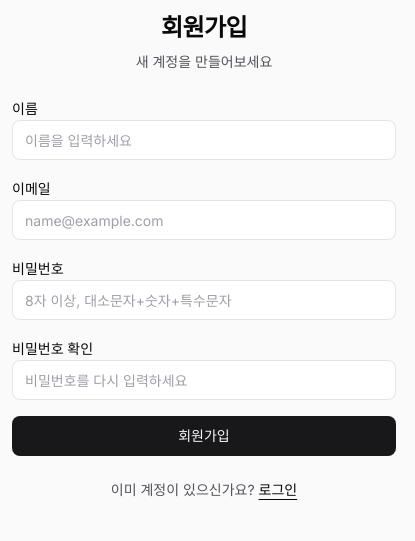
Test: Register › username이 너무 짧으면 에러가 표시된다
This screenshot has width=415, height=541.
Type "가" into the field labelled "이름".
click(204, 140); type("가")  # box [12,120,396,160]
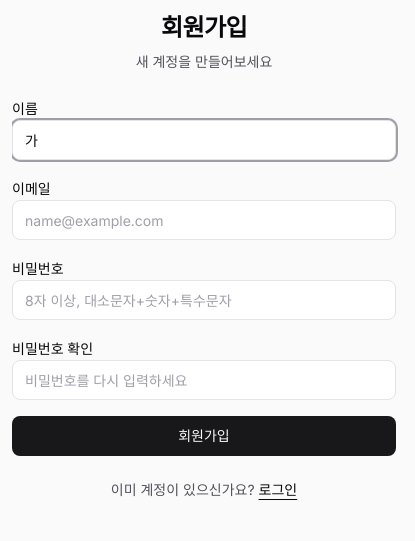
Type "test@example.com" into the field labelled "이메일".
click(204, 220); type("test@example.com")  # box [12,200,396,240]
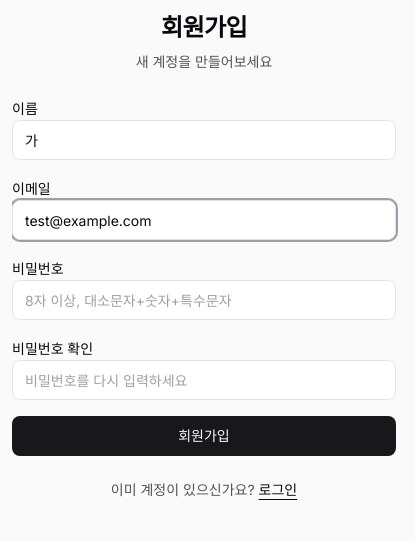
Type "Password1!" into the password field labelled "비밀번호".
click(204, 300); type("Password1!")  # box [12,280,396,320]
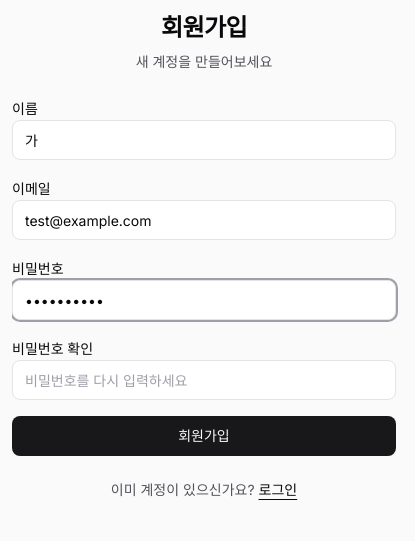
Type "Password1!" into the password field labelled "비밀번호 확인".
click(204, 380); type("Password1!")  # box [12,360,396,400]
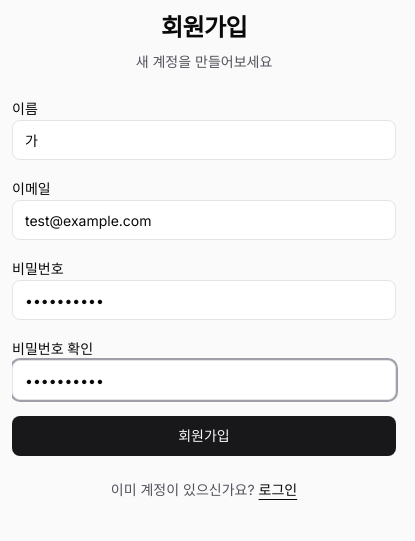
Click the button "회원가입".
click(204, 436)  # box [12,416,396,456]
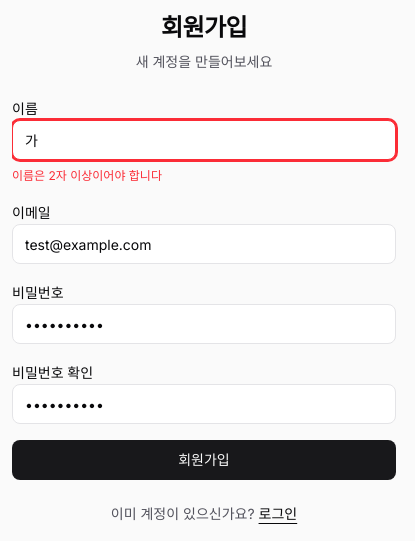
Expected: the text "이름은 2자 이상이어야 합니다" is shown, [12,168,162,183]
